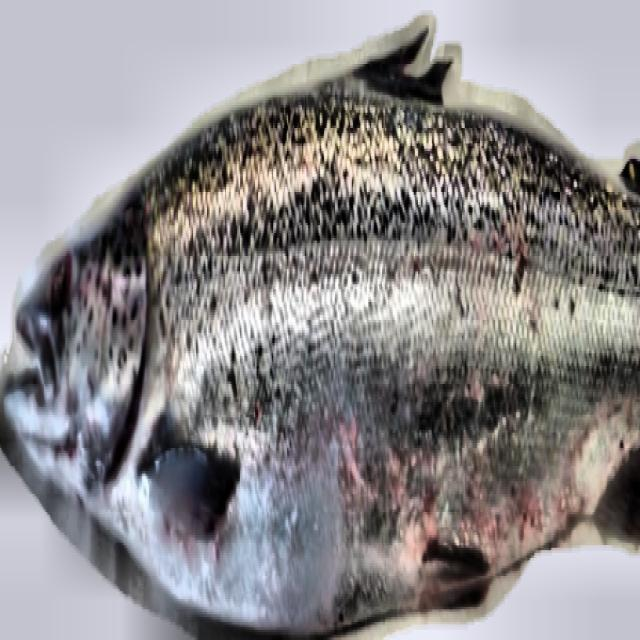mild_red: (470, 402, 639, 573), (291, 422, 377, 504), (382, 448, 430, 497), (417, 489, 444, 558)
